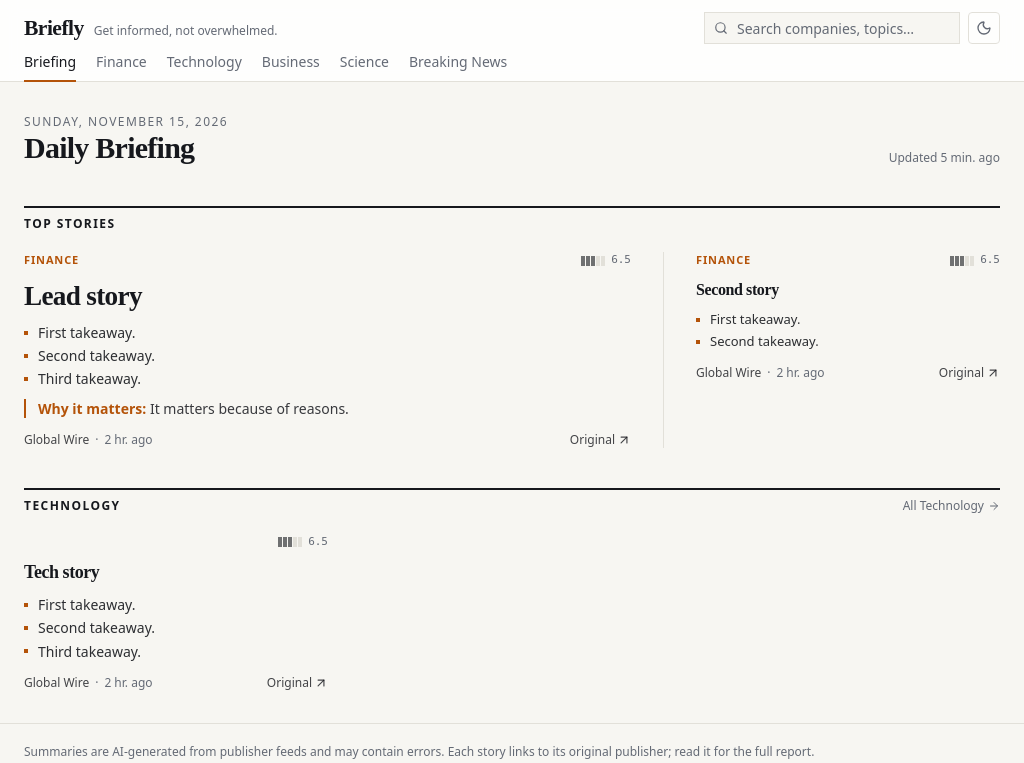
it: AppRoutes › navigates from the briefing to a category feed and resets scroll
The image size is (1024, 763).
Check: the heading "Daily Briefing" is shown, box top-left (24, 131), bottom-right (194, 164)
Click the link "Science". click: (364, 67)
box: top-left (340, 52), bottom-right (389, 82)
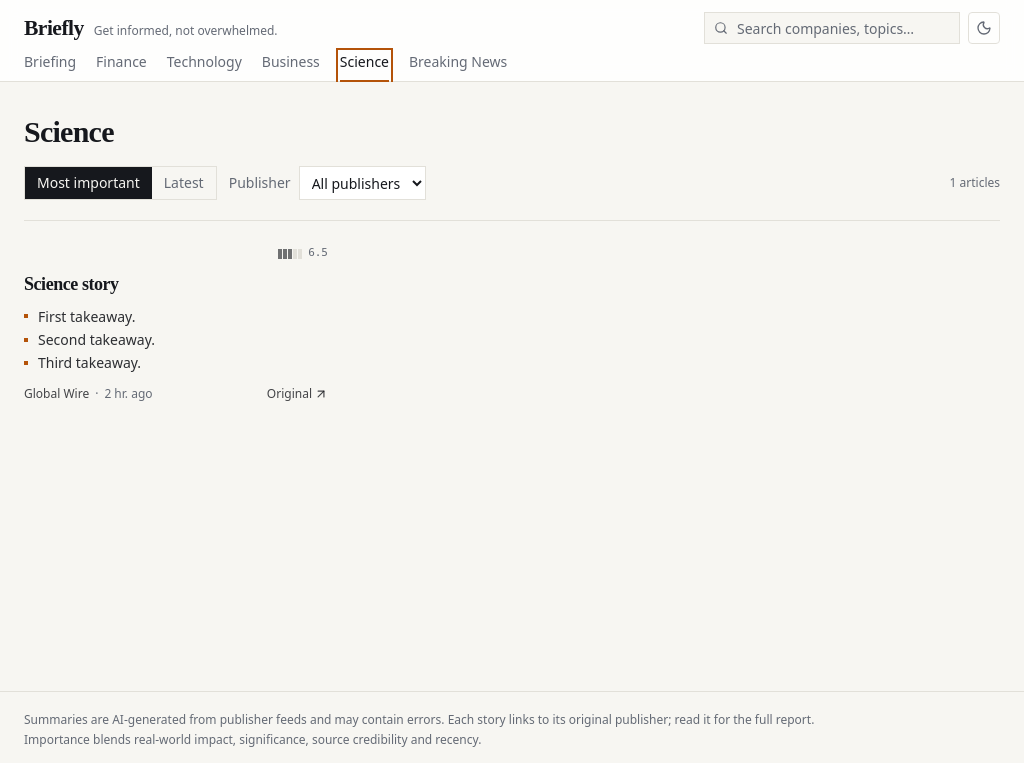
Check: the heading "Science" is shown, box top-left (24, 115), bottom-right (114, 148)
Check: the heading "Science story" is shown, box top-left (24, 274), bottom-right (119, 294)
